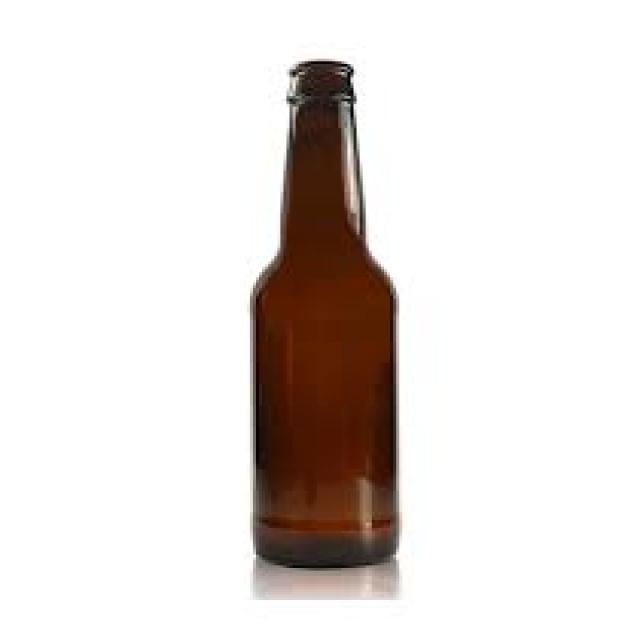glass: (247, 56, 399, 565)
